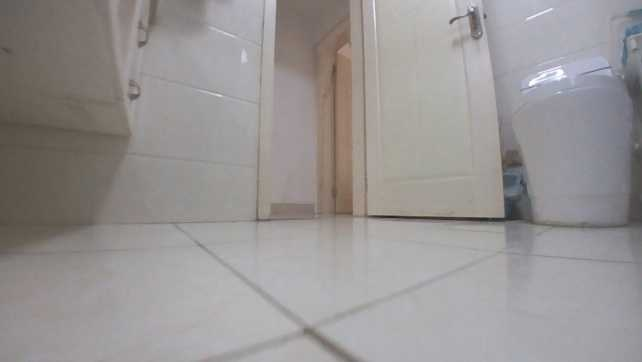door_anno: (347, 0, 504, 220)
toilet: (509, 56, 636, 226)
